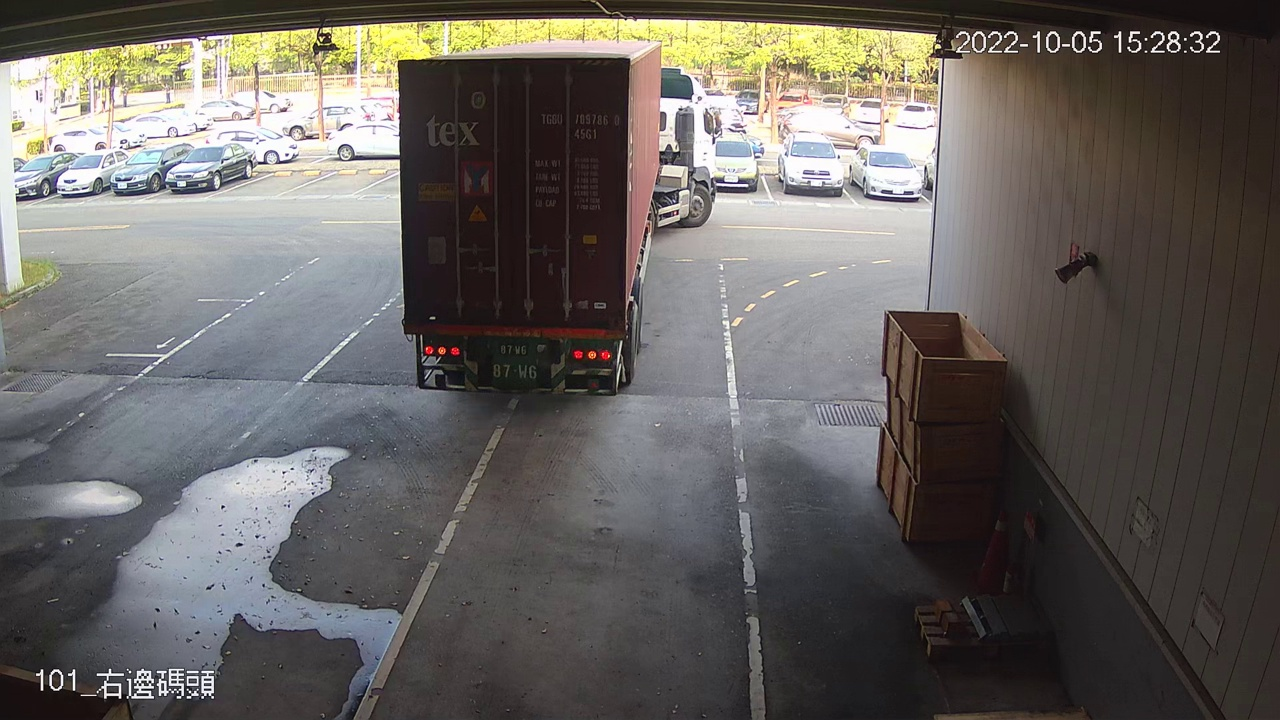container: (533, 107, 622, 145)
